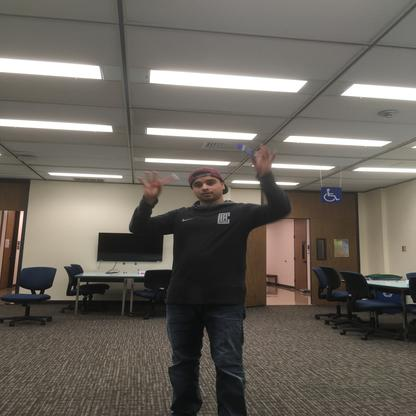expo_marker: (149, 170, 183, 188), (231, 140, 259, 160)
